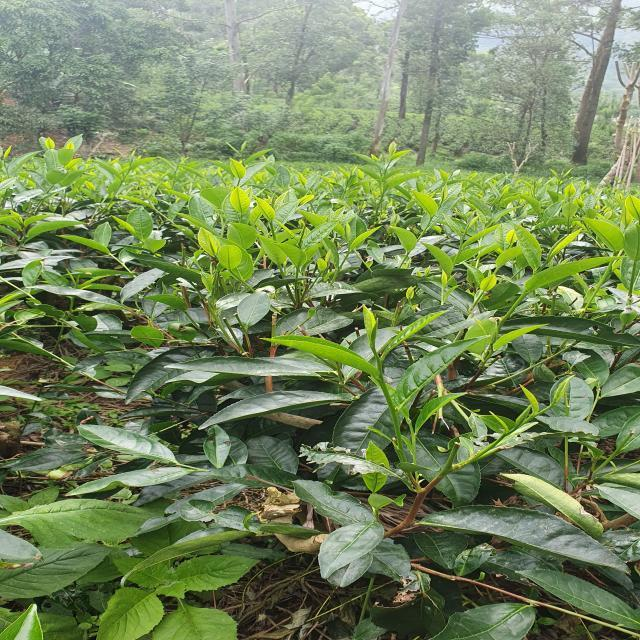Stem: (528, 415, 535, 420), (378, 360, 382, 367), (461, 239, 463, 242)
